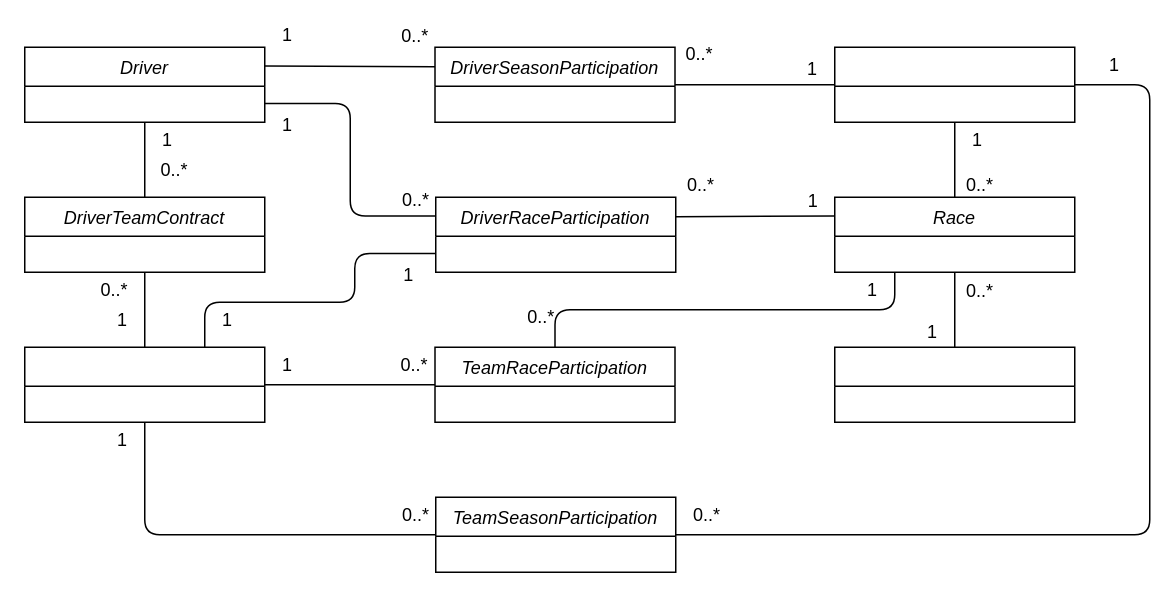
Some shapes in this 1175 by 597 pixel diagram are drawn without their labels. The shapes that lost their labels are listed below. From the top down, each one's centre as x and y in pixels, then its label:
At pixel 954 84: "Season".
At pixel 144 384: "Team".
At pixel 954 384: "Track".
